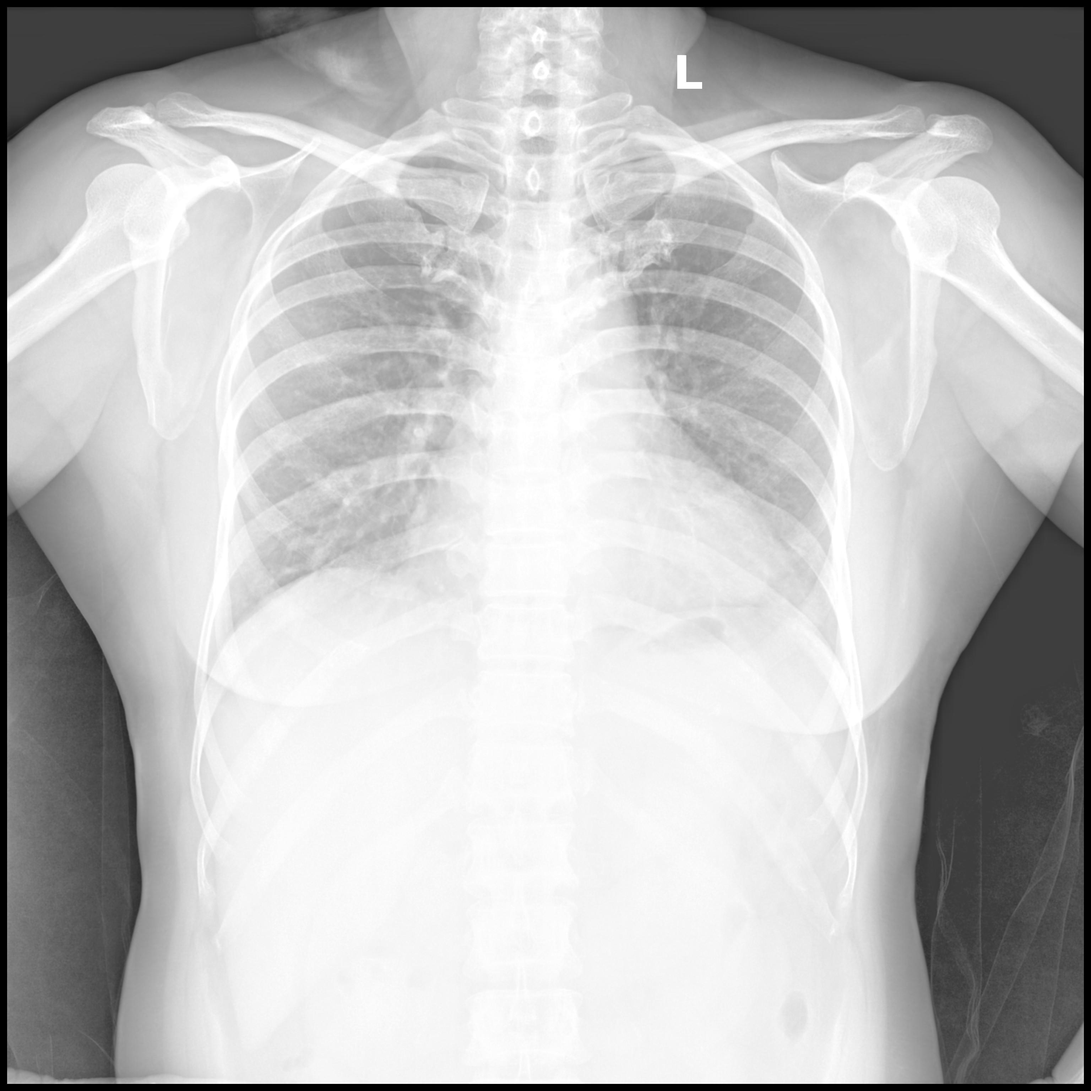Cardiomegaly: (410, 498, 782, 585)
